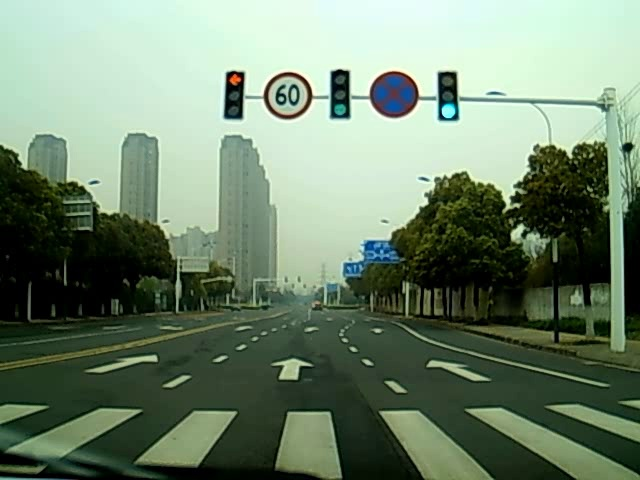Traffic_Light_go: (437, 70, 459, 122), (328, 69, 350, 118)
Traffic_Light_stop: (224, 72, 245, 121)
